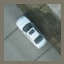car: (16, 15, 47, 49)
